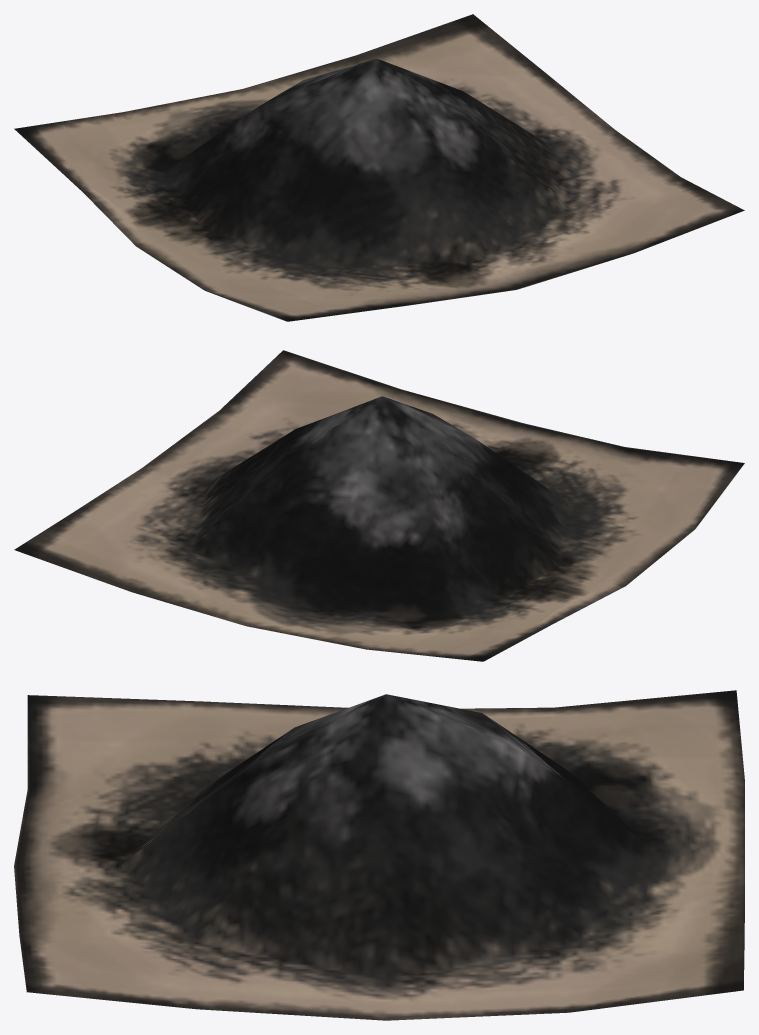
Rendered from GAM_LootPowder.FBX.
3 views of the same model, one above another, from view 1: azimuth 30°, elevation 25°; view 2: azimuth 150°, elevation 25°; view 3: azimuth 270°, elevation 25° (orthographic). The views are drawn at different scales.
Visible parts, largest first — view 1: GAM_LootPowder; view 2: GAM_LootPowder; view 3: GAM_LootPowder.
Part boxes in pixels (<box>): GAM_LootPowder: <box>14,14,744,321</box>; GAM_LootPowder: <box>14,350,744,661</box>; GAM_LootPowder: <box>14,690,744,1020</box>.
Bounding box in the file's own units: 45.1 × 11.61 × 44.76.
